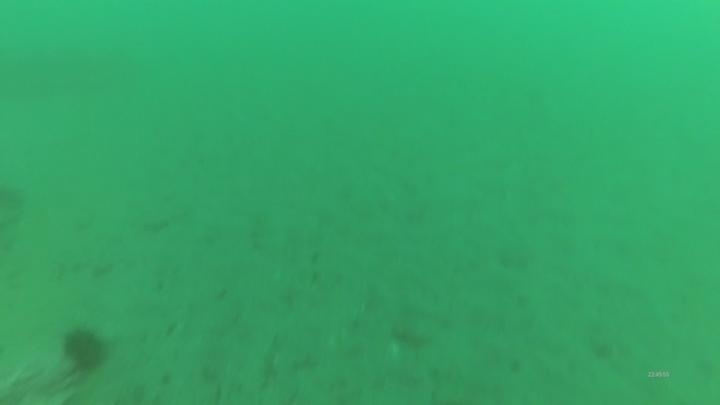echinus: (60, 324, 111, 375)
